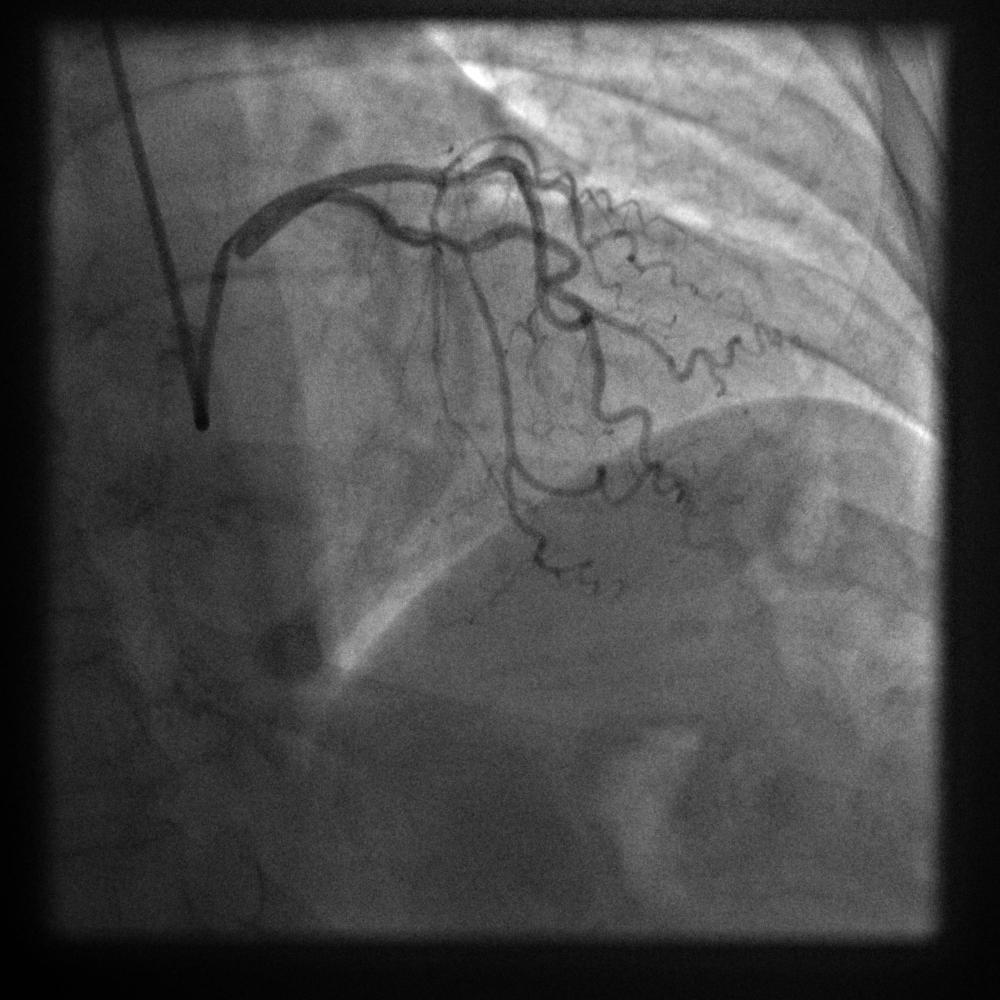Stenosis: (384, 218, 475, 259)
